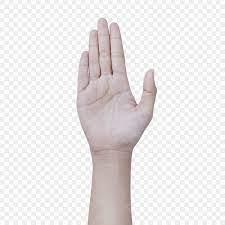Hand-Raised: (75, 14, 158, 164)
